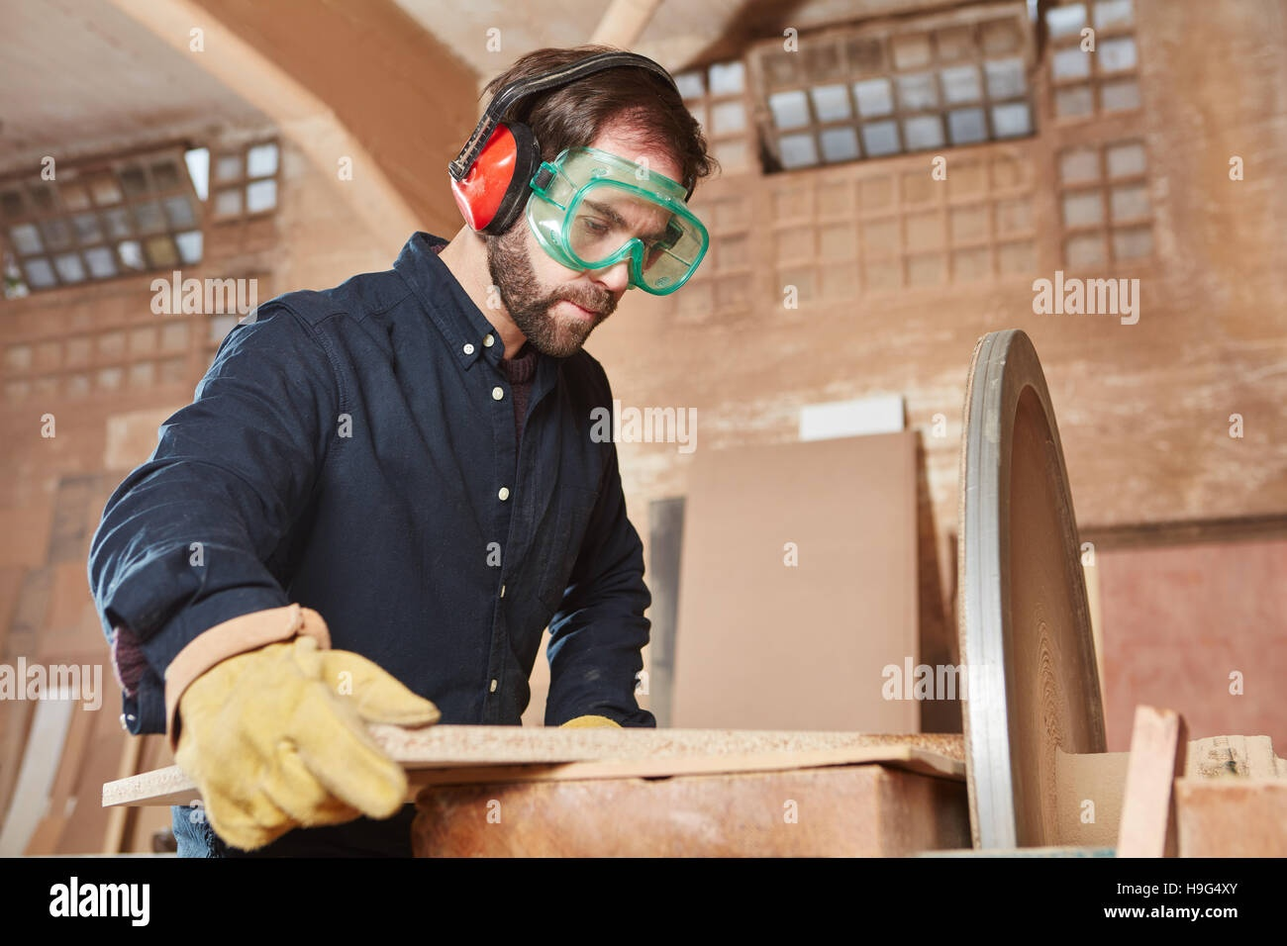safety_goggles: (503, 154, 757, 303)
